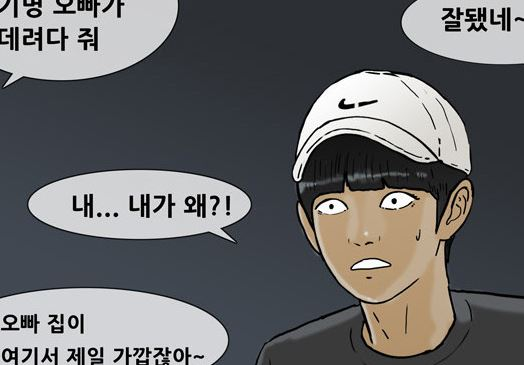hat: (291, 64, 473, 178)
